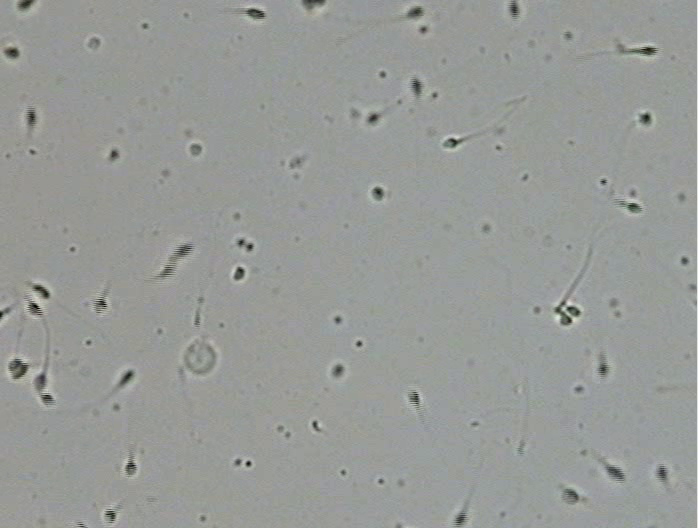Impurity: (184, 342, 217, 375), (86, 37, 100, 49)
S: (7, 358, 29, 379), (604, 464, 625, 482), (173, 242, 194, 258), (31, 282, 50, 299), (158, 261, 176, 278), (561, 488, 579, 505), (452, 511, 469, 528), (506, 1, 521, 20), (24, 106, 37, 127), (409, 76, 423, 95), (246, 7, 266, 20), (27, 300, 43, 316), (93, 297, 108, 313), (119, 370, 134, 386), (636, 46, 660, 56), (3, 46, 21, 59), (301, 1, 327, 10), (39, 393, 56, 406), (408, 390, 421, 407), (596, 361, 609, 378), (655, 463, 668, 480), (33, 373, 45, 391), (406, 6, 424, 18), (638, 111, 652, 126), (16, 1, 35, 12), (103, 508, 116, 524), (626, 202, 644, 213), (233, 266, 246, 281), (125, 460, 137, 476), (331, 363, 344, 377), (371, 186, 384, 200), (189, 143, 202, 156), (442, 138, 457, 149), (566, 306, 581, 317), (560, 313, 572, 325), (108, 149, 120, 160), (367, 113, 380, 123), (1, 309, 9, 320), (76, 521, 88, 528)
